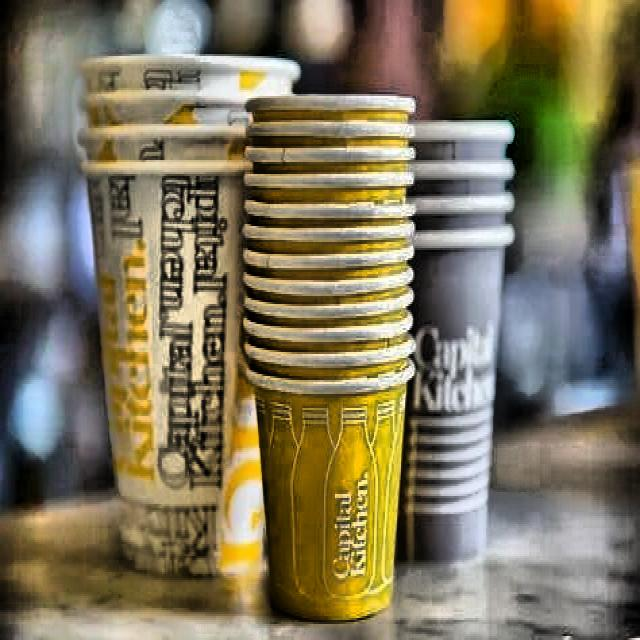Cup: (68, 44, 300, 602), (243, 95, 422, 622), (366, 116, 516, 568)
